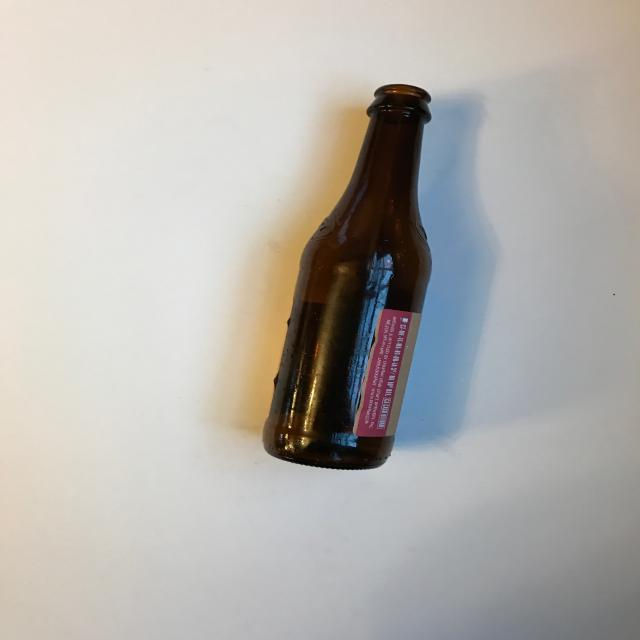glass: (262, 82, 434, 470)
